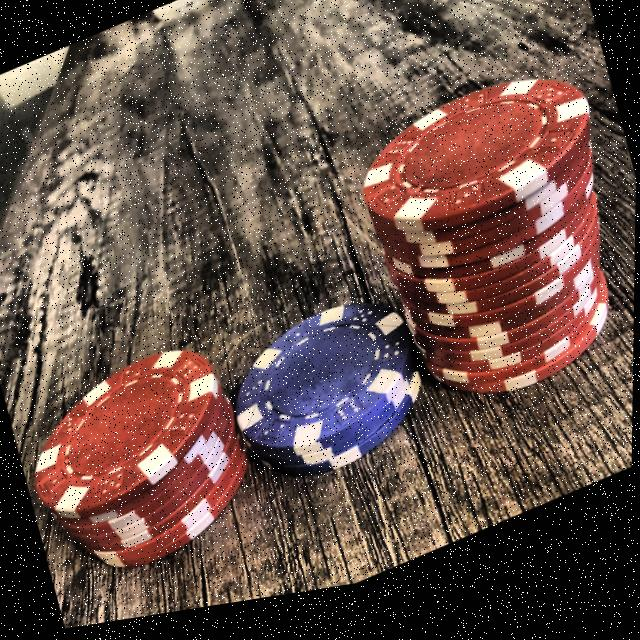Chip: (346, 56, 638, 453), (14, 325, 271, 607), (216, 283, 446, 520)
